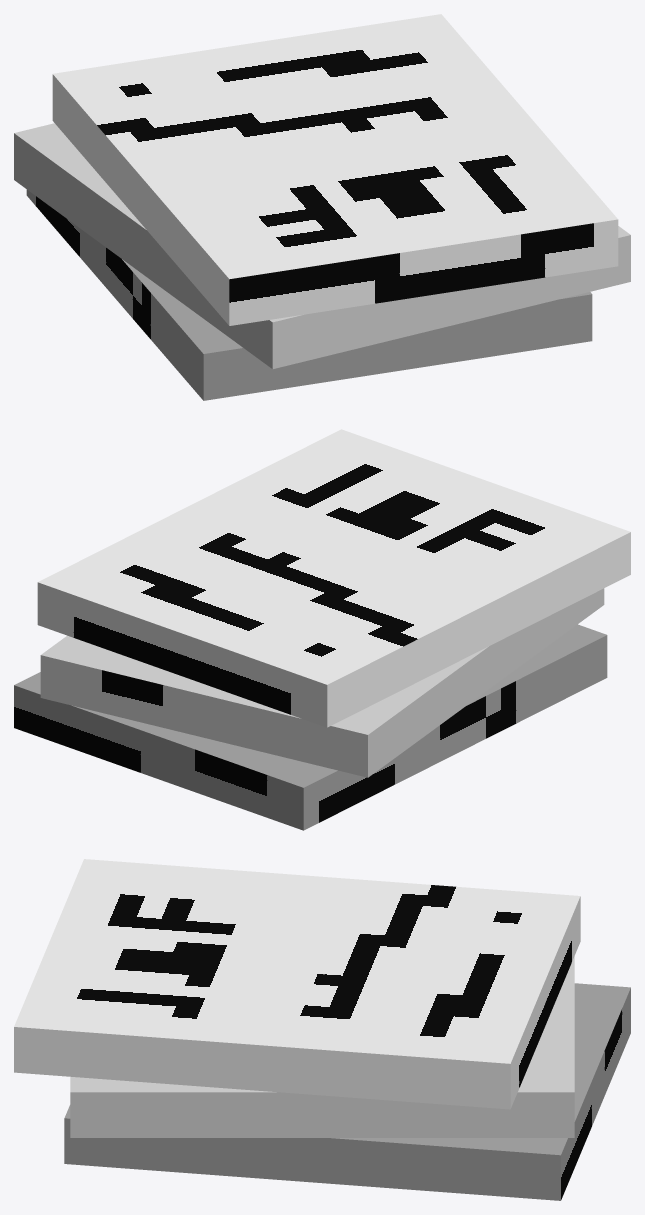
The model's file is PaperStack.gltf.
The picture shows the model from 3 angles, top to bottom: view 1: azimuth 30°, elevation 25°; view 2: azimuth 150°, elevation 25°; view 3: azimuth 270°, elevation 25°; orthographic projection. The views are drawn at different scales.
Visible parts, largest first — view 1: mesh (×3); view 2: mesh (×3); view 3: mesh (×3).
Boxes of the visible parts, box(x1,y1,x2,y2) form: mesh (×3): box(14, 14, 630, 400); mesh (×3): box(14, 429, 630, 830); mesh (×3): box(14, 859, 630, 1200).
Bounding box in the file's own units: 1.2 × 0.375 × 1.53.
3 materials, 3 textured.
